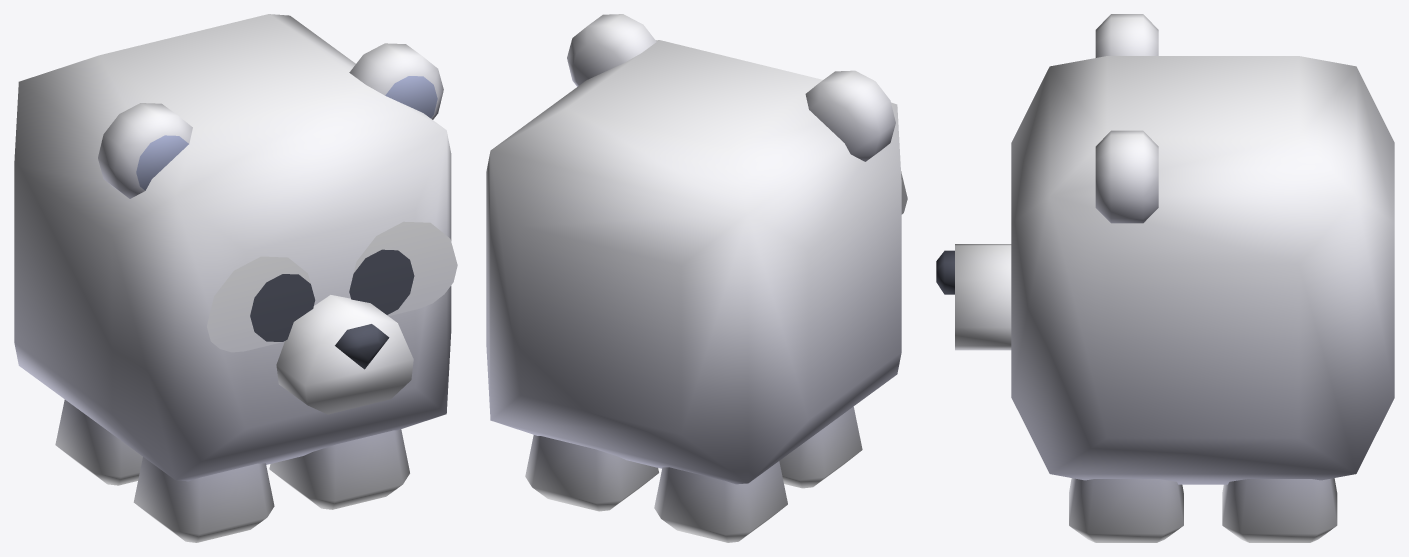
The model's file is animal-polar.obj.
The picture shows the model from 3 angles, left to right: view 1: azimuth 30°, elevation 25°; view 2: azimuth 150°, elevation 25°; view 3: azimuth 270°, elevation 25°; orthographic projection. The views are drawn at different scales.
Parts seen in each view (by area): view 1: body, leg-front-right, leg-front-left, leg-back-right; view 2: body, leg-back-right, leg-back-left, leg-front-right; view 3: body, leg-back-left, leg-front-left.
Boxes of the visible parts, x1,y1,x2,y2 form: body: (14,14,457,481); leg-front-right: (133,457,274,542); leg-front-left: (269,429,409,509); leg-back-right: (55,399,142,485); body: (486,14,907,484); leg-back-right: (654,461,787,542); leg-back-left: (525,435,658,511); leg-front-right: (779,406,862,488); body: (936,14,1394,484); leg-back-left: (1222,478,1337,542); leg-front-left: (1069,478,1183,542).
Bounding box in the file's own units: 1.25 × 1.5 × 1.5.
